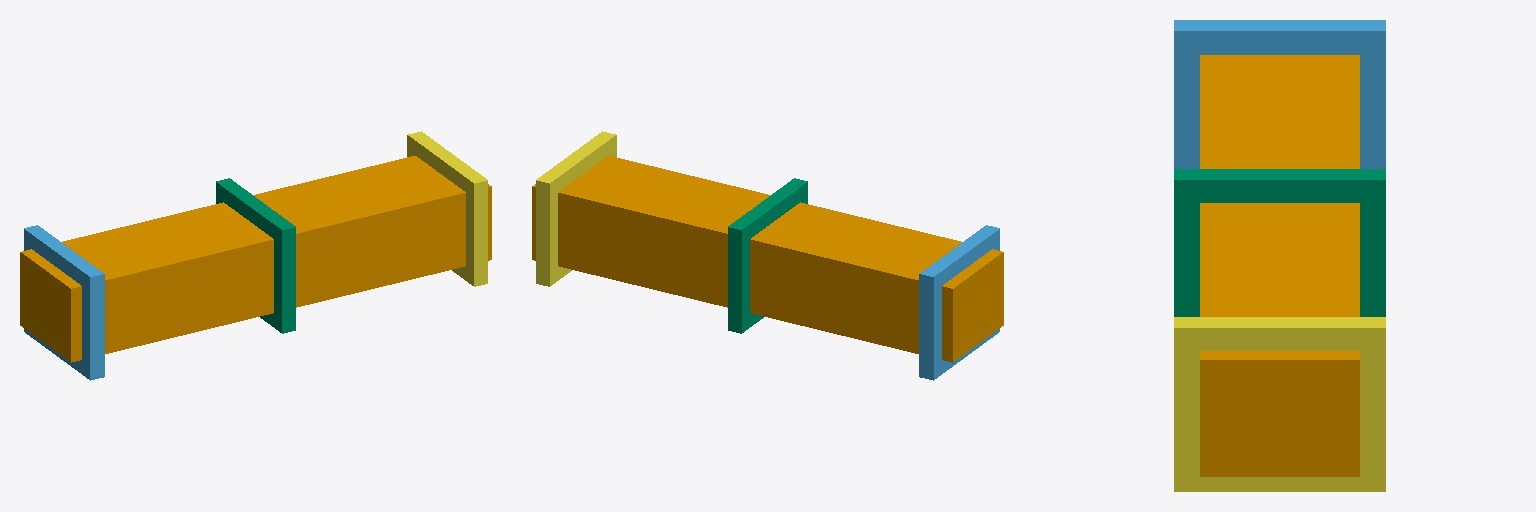
robot.urdf — debris035:
<?xml version="1.0" ?>
<robot name="debris035">

<link name="debris035">
<visual> <origin xyz="0 0 0" rpy="0 0 0" />
<geometry> <box size="1.49 0.31 0.25"/> </geometry>
</visual>
<collision> <origin xyz="0 0 0" rpy="0 0 0" />
<geometry> <box size="1.49 0.31 0.25"/> </geometry>
</collision>
<inertial> <origin xyz="0 0 0" rpy="0 0 0" />
<mass value="10.0" />
<inertia ixx="0.7798" ixy="0" ixz="0" iyy="0.7798" iyz="0" izz="0.7798" />
</inertial>
</link>
<gazebo reference="debris035"> <material>Gazebo/Granite</material> </gazebo>

<link name="debris0350">
<visual> <origin xyz="-0.68 0 0" rpy="0 0 0" />
<geometry> <box size="0.05 0.41 0.35"/> </geometry>
</visual>
<collision> <origin xyz="-0.68 0 0" rpy="0 0 0" />
<geometry> <box size="0.05 0.41 0.35"/> </geometry>
</collision>
<inertial> <origin xyz="0 0 0" rpy="0 0 0" />
<mass value="0.1" />
<inertia ixx="0.0100" ixy="0" ixz="0" iyy="0.0100" iyz="0" izz="0.0100" />
</inertial>
</link>
<gazebo reference="debris0350"> <material>Gazebo/Granite</material> </gazebo>

<joint name="debris0350joint" type="fixed">
<parent link="debris035"/>
<child link="debris0350"/>
<origin xyz="0 0 0" rpy="0 0 0" />
</joint>

<link name="debris0351">
<visual> <origin xyz="0.00 0 0" rpy="0 0 0" />
<geometry> <box size="0.05 0.41 0.35"/> </geometry>
</visual>
<collision> <origin xyz="0.00 0 0" rpy="0 0 0" />
<geometry> <box size="0.05 0.41 0.35"/> </geometry>
</collision>
<inertial> <origin xyz="0 0 0" rpy="0 0 0" />
<mass value="0.1" />
<inertia ixx="0.0100" ixy="0" ixz="0" iyy="0.0100" iyz="0" izz="0.0100" />
</inertial>
</link>
<gazebo reference="debris0351"> <material>Gazebo/Granite</material> </gazebo>

<joint name="debris0351joint" type="fixed">
<parent link="debris035"/>
<child link="debris0351"/>
<origin xyz="0 0 0" rpy="0 0 0" />
</joint>

<link name="debris0352">
<visual> <origin xyz="0.68 0 0" rpy="0 0 0" />
<geometry> <box size="0.05 0.41 0.35"/> </geometry>
</visual>
<collision> <origin xyz="0.68 0 0" rpy="0 0 0" />
<geometry> <box size="0.05 0.41 0.35"/> </geometry>
</collision>
<inertial> <origin xyz="0 0 0" rpy="0 0 0" />
<mass value="0.1" />
<inertia ixx="0.0100" ixy="0" ixz="0" iyy="0.0100" iyz="0" izz="0.0100" />
</inertial>
</link>
<gazebo reference="debris0352"> <material>Gazebo/Granite</material> </gazebo>

<joint name="debris0352joint" type="fixed">
<parent link="debris035"/>
<child link="debris0352"/>
<origin xyz="0 0 0" rpy="0 0 0" />
</joint>

</robot>

--- What the picture shows (computed from the rendered views, not written in the file) ---
3 views of the same robot in one strip: view 1: azimuth 30°, elevation 25°; view 2: azimuth 150°, elevation 25°; view 3: azimuth 270°, elevation 25° (orthographic).
Model debris035 with 4 links and 3 joints (3 fixed), rooted at debris035, posed every joint at zero.
Visible links, largest first — view 1: debris035, debris0350, debris0352, debris0351; view 2: debris035, debris0350, debris0352, debris0351; view 3: debris035, debris0352, debris0350, debris0351.
Link boxes in pixels (x1,y1,x2,y2): debris035: (20, 156, 491, 362); debris0350: (24, 225, 104, 380); debris0352: (407, 131, 487, 286); debris0351: (216, 178, 295, 333); debris035: (532, 156, 1003, 362); debris0350: (919, 225, 999, 380); debris0352: (536, 131, 616, 286); debris0351: (728, 178, 807, 333); debris035: (1200, 55, 1359, 476); debris0352: (1174, 317, 1385, 491); debris0350: (1174, 20, 1385, 168); debris0351: (1174, 169, 1385, 316).
Bounding box of the posed robot: 1.49 × 0.41 × 0.35 m (x, y, z).
Geometry: primitives only (box / cylinder / sphere), no mesh files.
